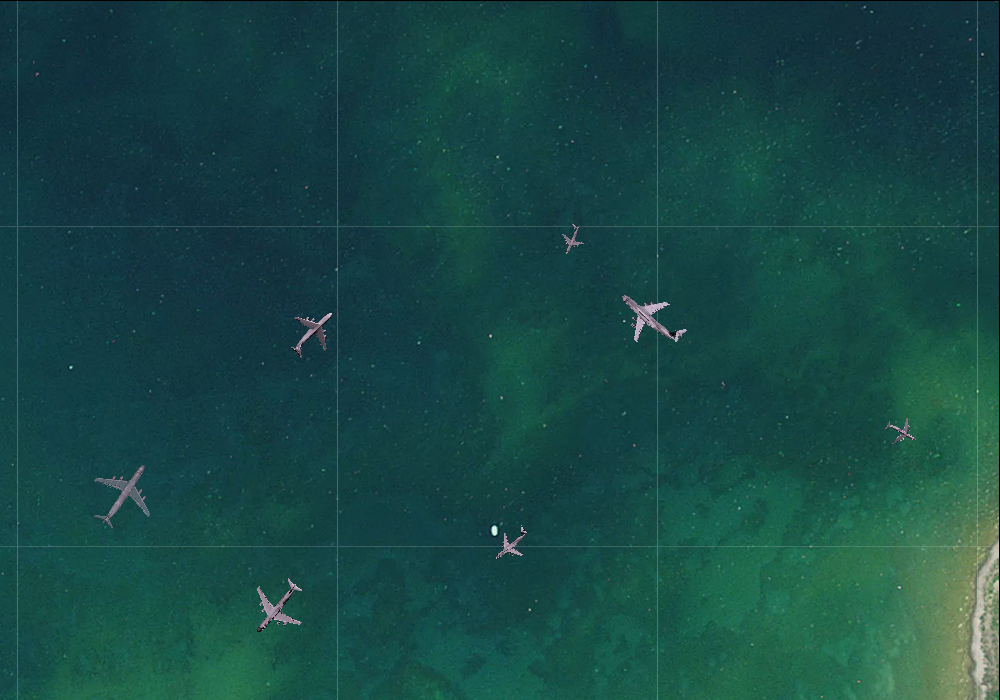plane: (74, 445, 171, 543), (603, 268, 700, 365), (234, 565, 319, 650), (275, 295, 350, 370), (483, 517, 538, 571), (879, 410, 923, 454), (552, 219, 590, 258)
